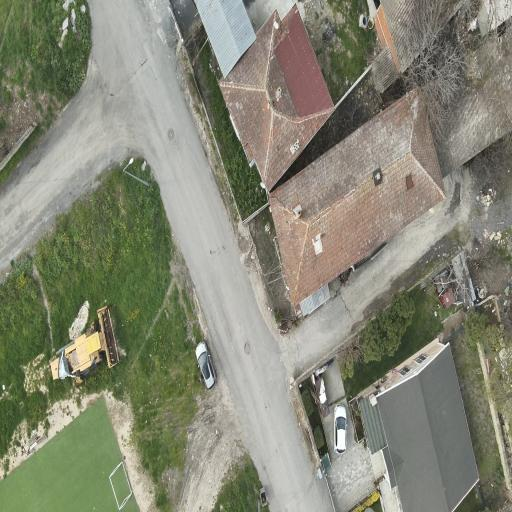car: (195, 341, 216, 389), (334, 404, 346, 453)
harvester: (51, 307, 118, 382)
